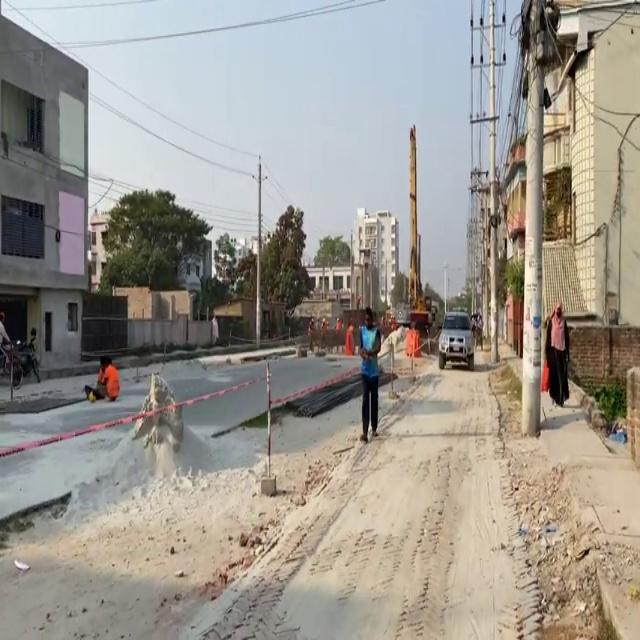Animal: (130, 370, 184, 478)
Construction-barrier: (561, 453, 639, 639), (593, 562, 639, 639), (194, 342, 298, 367)
Fallen-tree: (0, 338, 41, 390)
Garbage: (258, 360, 276, 496), (259, 475, 276, 496)
Garbage-bin: (357, 306, 382, 442), (83, 355, 120, 401), (0, 310, 12, 375)
Light-pole: (520, 60, 545, 437)
Pothole: (494, 349, 639, 639)
Traffic-cone: (401, 123, 435, 332)
